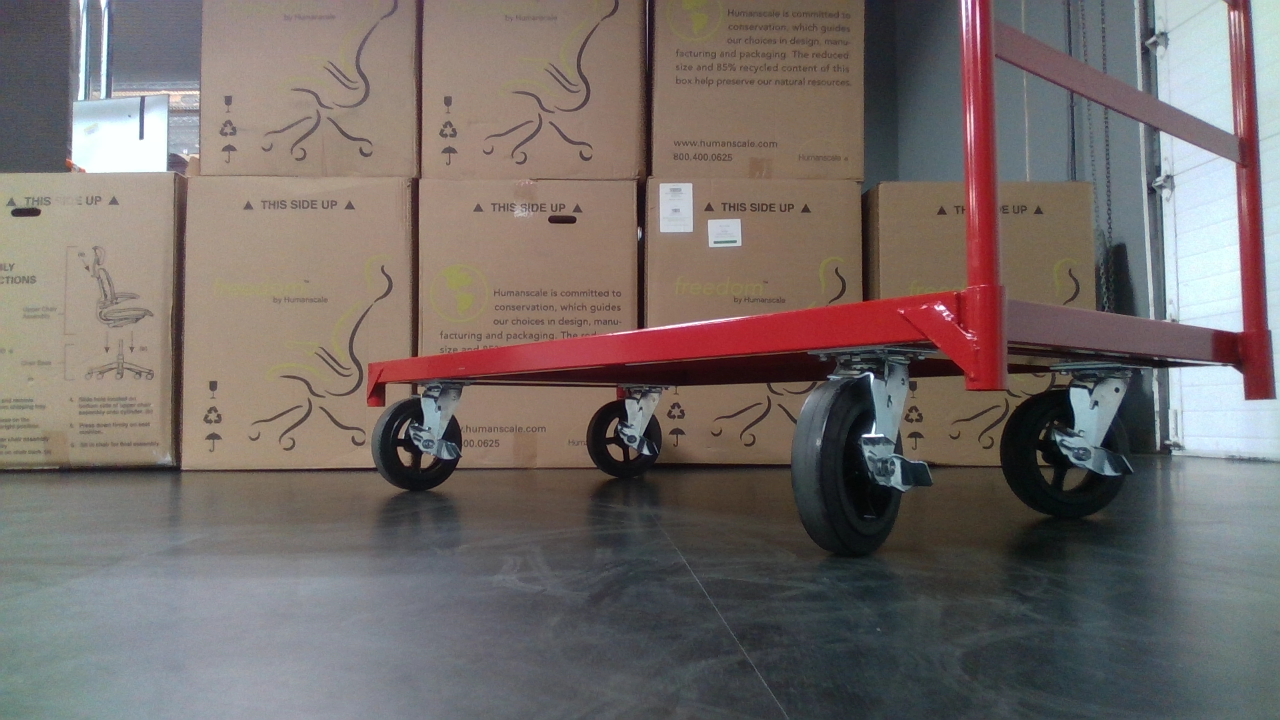Dolly: (352, 0, 1280, 554)
Wheel: (786, 365, 913, 553), (997, 387, 1133, 520), (369, 394, 466, 493), (583, 400, 665, 478)
